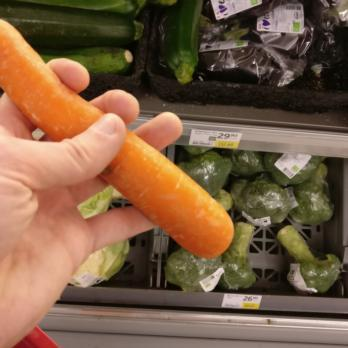Carrot: (0, 19, 236, 258)
